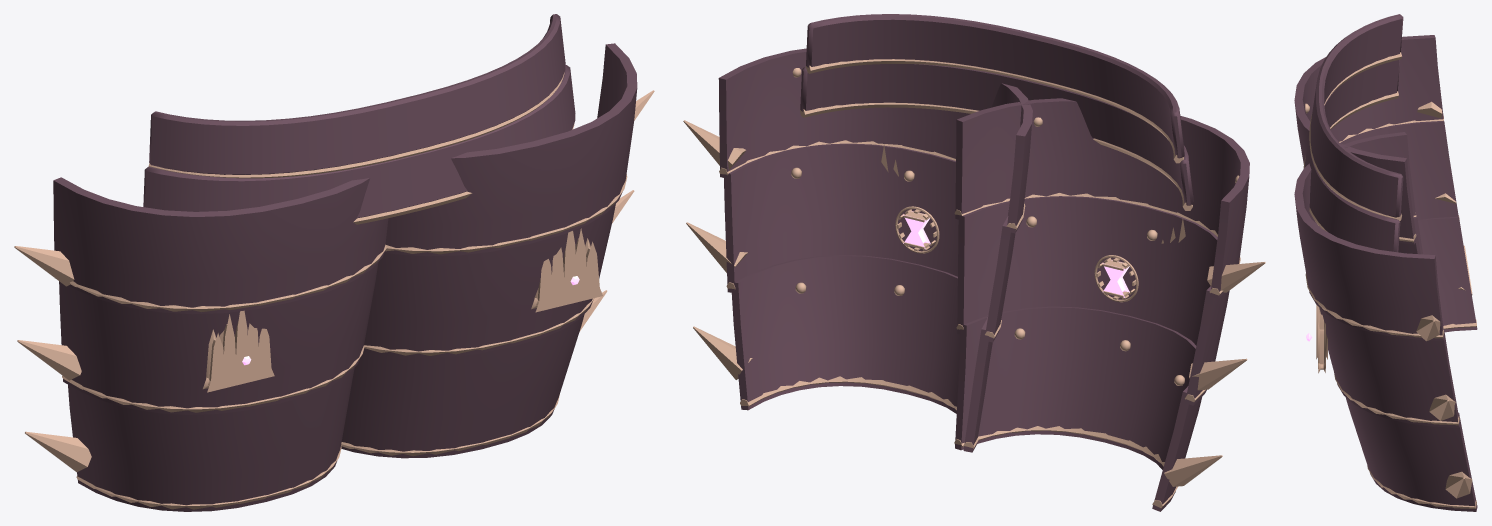
The model's file is asc_aeonbreaker_leggings.glb.
The picture shows the model from 3 angles, left to right: view 1: azimuth 30°, elevation 25°; view 2: azimuth 150°, elevation 25°; view 3: azimuth 270°, elevation 25°; orthographic projection. The views are drawn at different scales.
Visible parts, largest first — view 1: AT_thigh_R, AT_thigh_L, asc_aeonbreaker_leggings; view 2: AT_thigh_R, AT_thigh_L, asc_aeonbreaker_leggings; view 3: AT_thigh_L, AT_thigh_R, asc_aeonbreaker_leggings.
Boxes of the visible parts, x1=… form: AT_thigh_R: x1=14, y1=177, x2=388, y2=511; AT_thigh_L: x1=341, y1=43, x2=654, y2=458; asc_aeonbreaker_leggings: x1=143, y1=14, x2=575, y2=224; AT_thigh_R: x1=954, y1=98, x2=1265, y2=511; AT_thigh_L: x1=683, y1=48, x2=1032, y2=452; asc_aeonbreaker_leggings: x1=800, y1=14, x2=1193, y2=302; AT_thigh_L: x1=1294, y1=132, x2=1477, y2=511; AT_thigh_R: x1=1294, y1=35, x2=1477, y2=332; asc_aeonbreaker_leggings: x1=1303, y1=14, x2=1403, y2=252.
Size of the model in its own units: 0.5844 by 0.3481 by 0.177.
